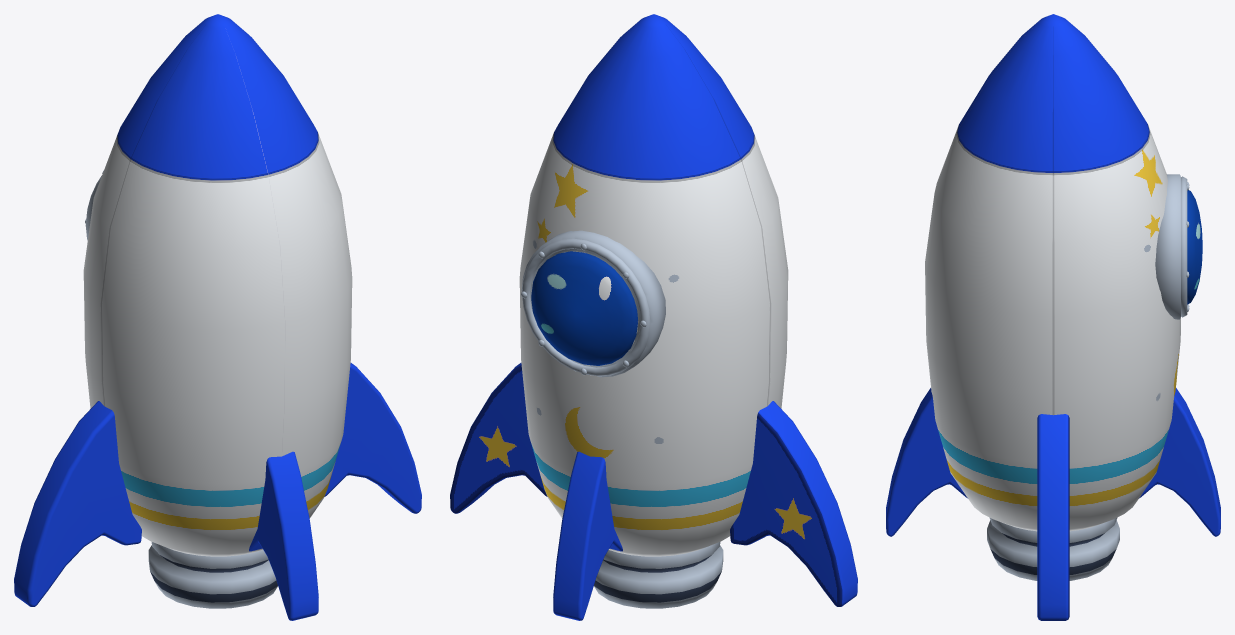
The model's file is rocket_comun.fbx.
3 renders of one model, left to right at view 1: azimuth 30°, elevation 25°; view 2: azimuth 150°, elevation 25°; view 3: azimuth 270°, elevation 25°, orthographic. The views are drawn at different scales.
Visible parts, largest first — view 1: Body, Fins, Nozzle; view 2: Body, Fins, Window, Nozzle; view 3: Body, Fins, Nozzle, Window.
Part boxes in pixels (x1,y1,x2,y2): Body: [83, 14, 352, 556]; Fins: [14, 363, 421, 620]; Nozzle: [148, 542, 277, 608]; Body: [519, 14, 788, 556]; Fins: [450, 363, 857, 620]; Window: [531, 251, 638, 365]; Nozzle: [594, 542, 723, 608]; Body: [925, 14, 1189, 531]; Fins: [886, 388, 1220, 620]; Nozzle: [987, 517, 1119, 580]; Window: [1187, 190, 1202, 304].
Size of the model in its own units: 2.03 by 2.8 by 1.56.
3 materials, 3 textured.
